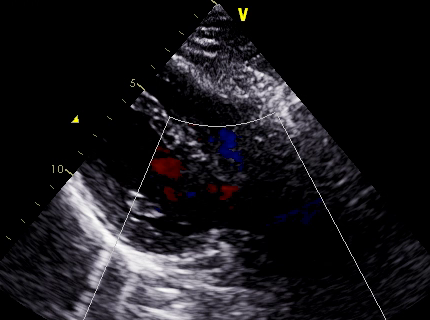AR: (158, 158, 250, 209)
